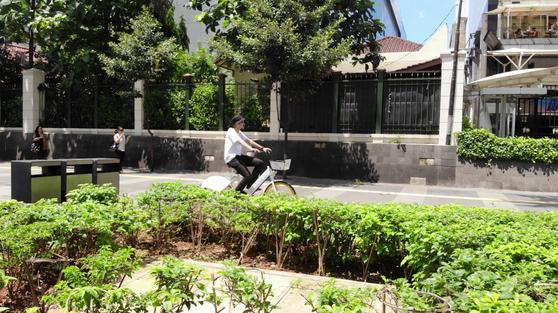bike: (198, 152, 302, 205)
